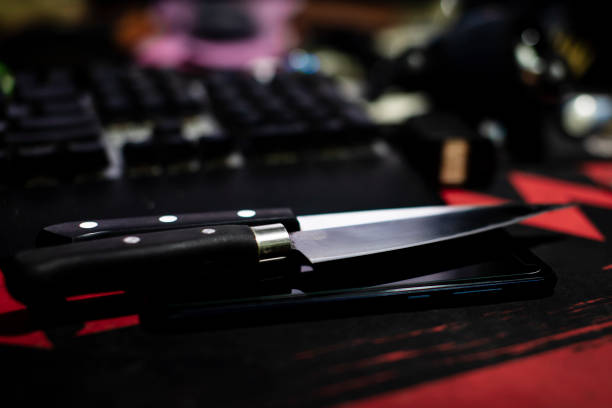knife: (4, 200, 584, 307), (36, 204, 495, 250)
